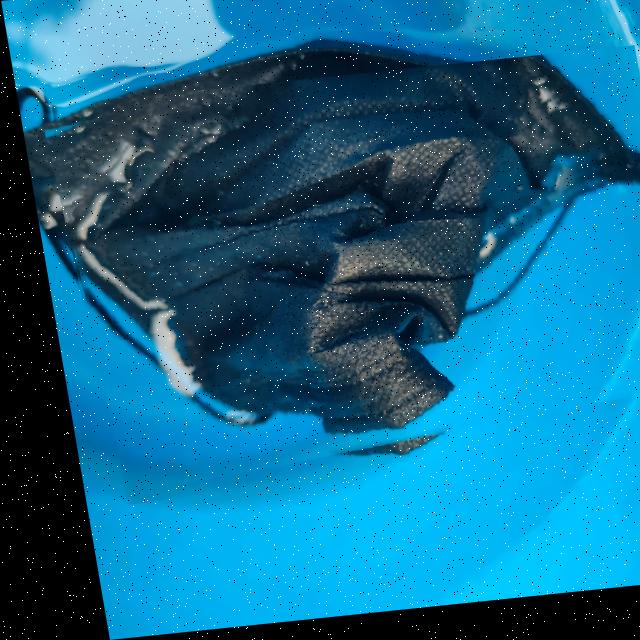mask: (41, 58, 640, 498)
